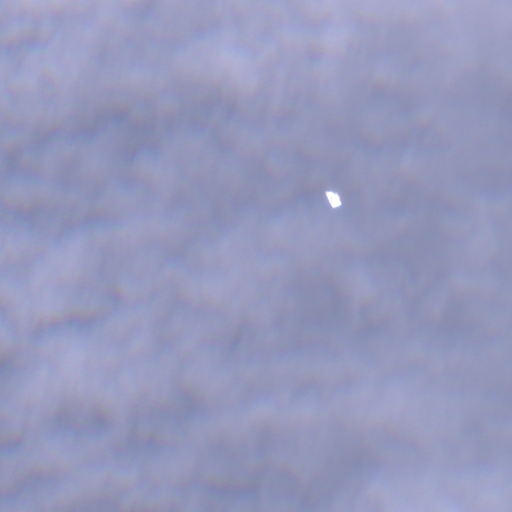Iceberg: (326, 191, 341, 207)
